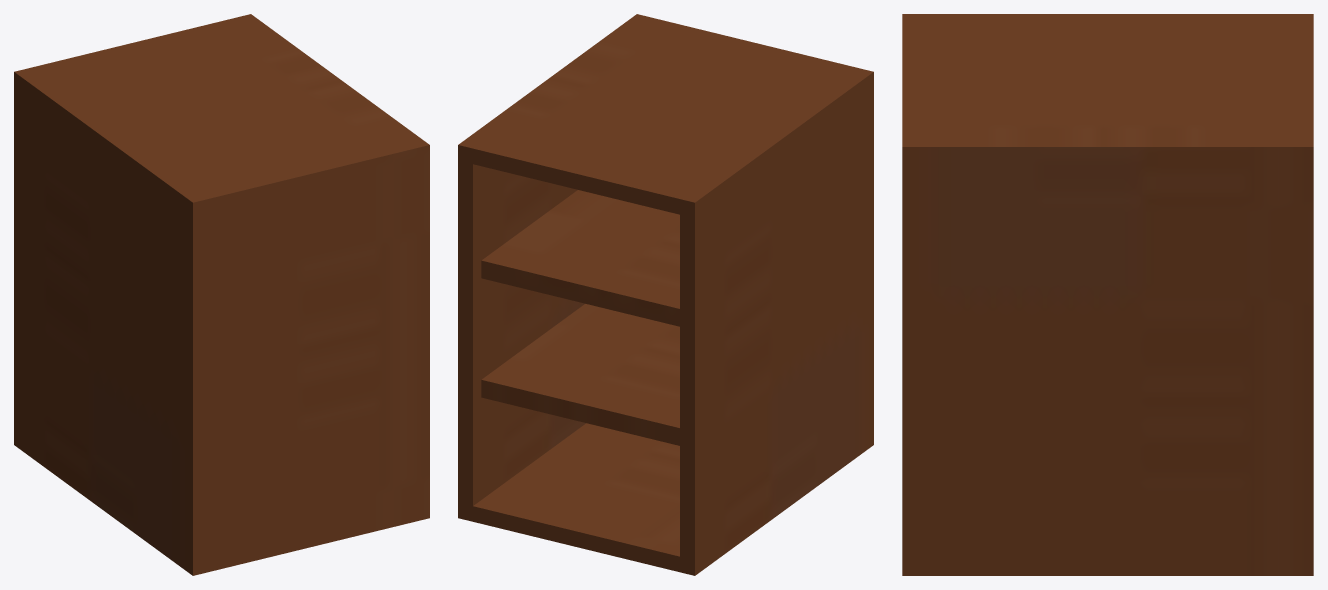
Rendered from CabinetC07.glb.
3 views of the same model, side by side, from view 1: azimuth 30°, elevation 25°; view 2: azimuth 150°, elevation 25°; view 3: azimuth 270°, elevation 25° (orthographic). The views are drawn at different scales.
Visible parts, largest first — view 1: CabinetC07_model; view 2: CabinetC07_model; view 3: CabinetC07_model.
Part boxes in pixels (x1,y1,x2,y2): CabinetC07_model: [14, 14, 429, 575]; CabinetC07_model: [458, 14, 873, 575]; CabinetC07_model: [902, 14, 1313, 575].
Bounding box in the file's own units: 0.9201 × 1.39 × 1.2.
Materials: 1 (1 with a texture image).
